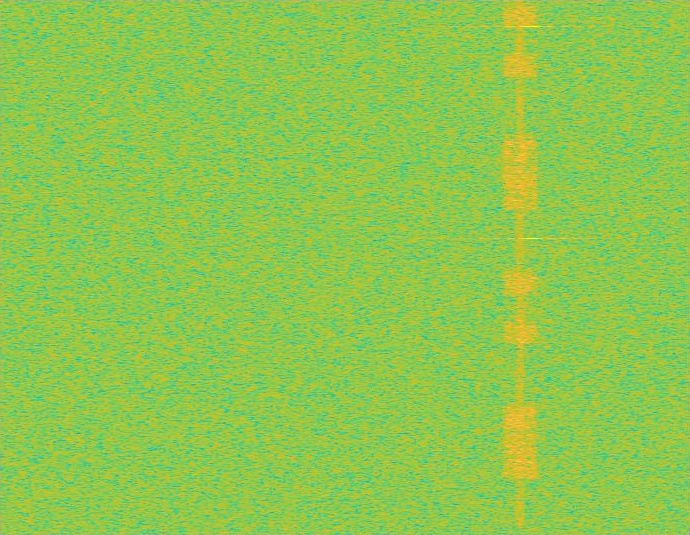DSSS: (516, 0, 524, 534)
LTE: (503, 0, 538, 534)
Radar: (524, 0, 538, 534)
